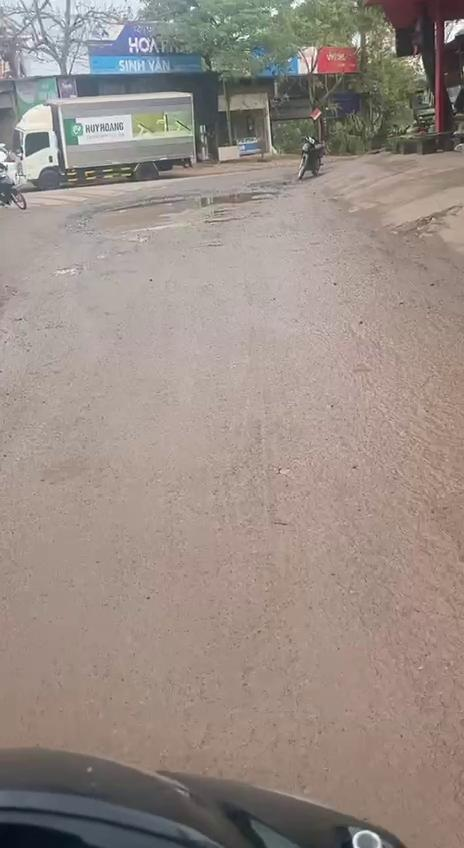pothole: (77, 184, 286, 236)
